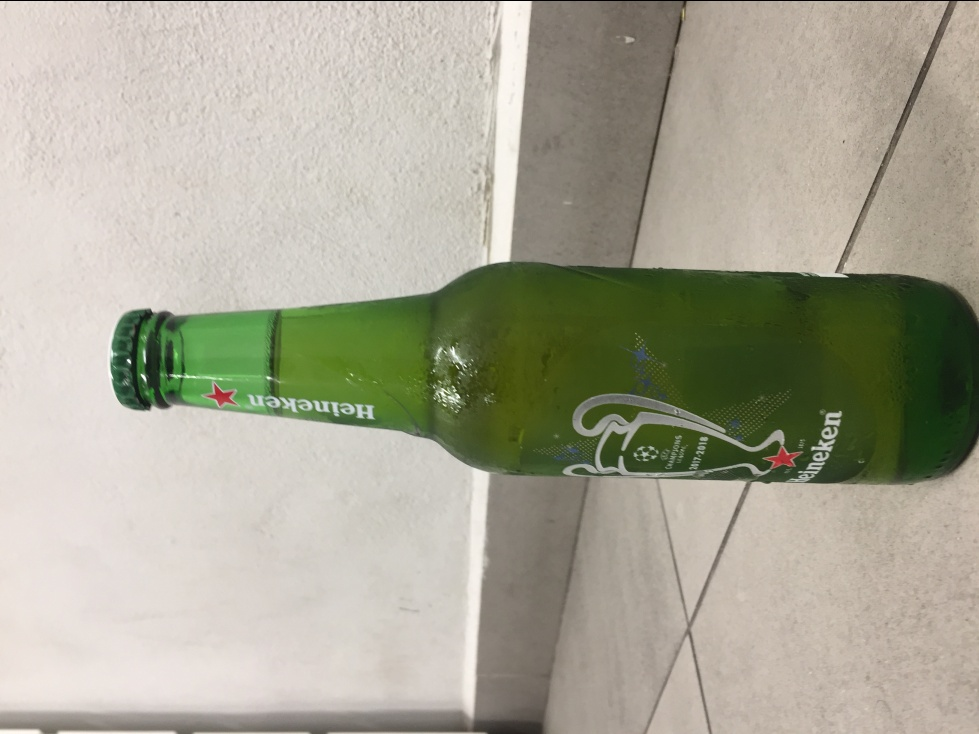heineken: (105, 259, 978, 489)
